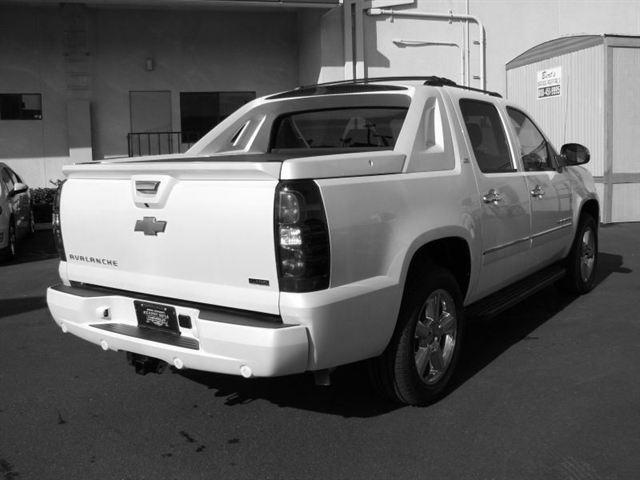car: (45, 78, 602, 410)
